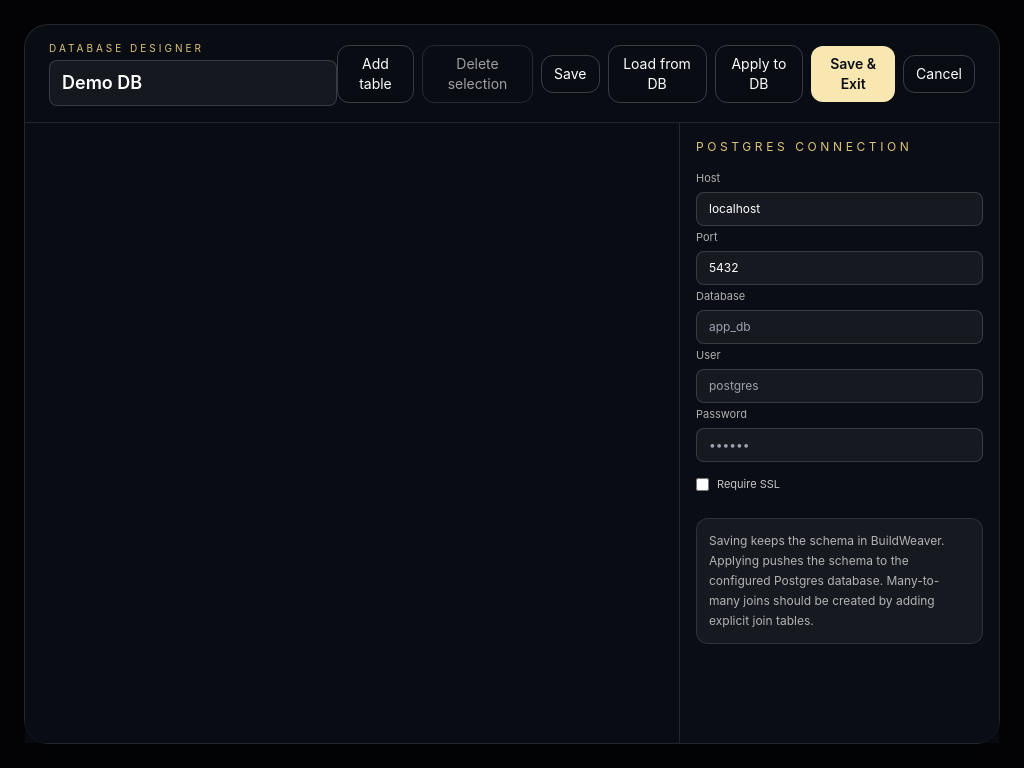
Test: DatabaseDesignerModal › surfaces load errors to the user
Click the button "Load from DB".
click(657, 74)  # box [608,44,706,102]
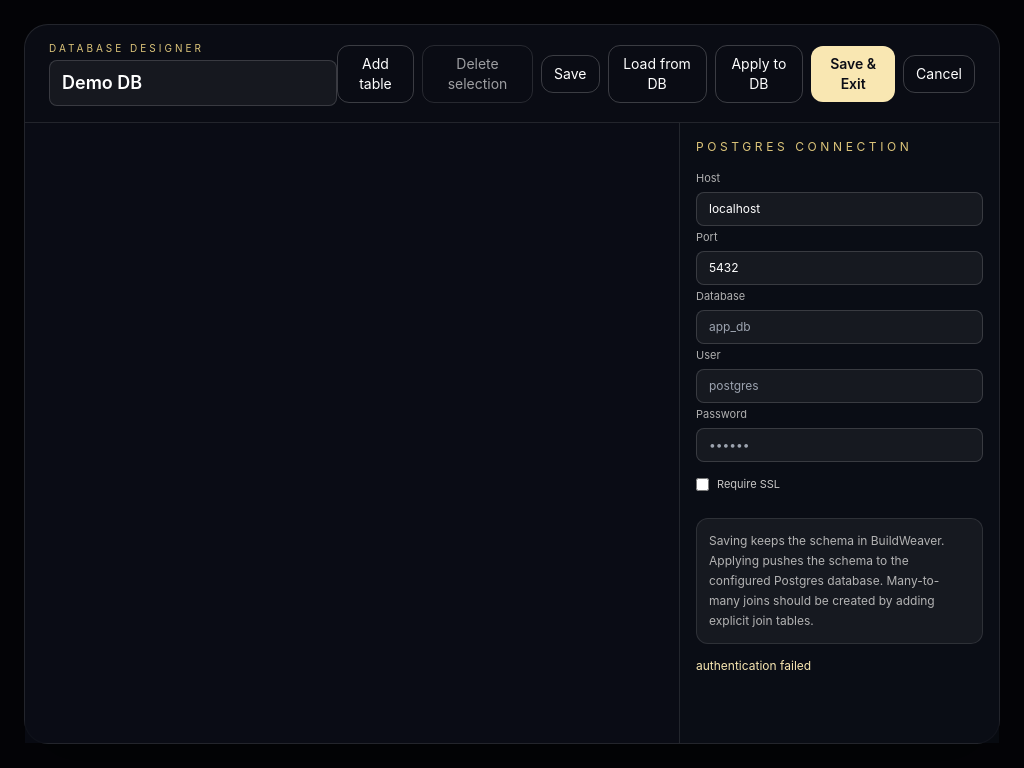
Now the text "authentication failed" is shown, box [696,658,811,673]
